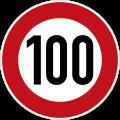Speed Limit -100-: (12, 15, 107, 102)
